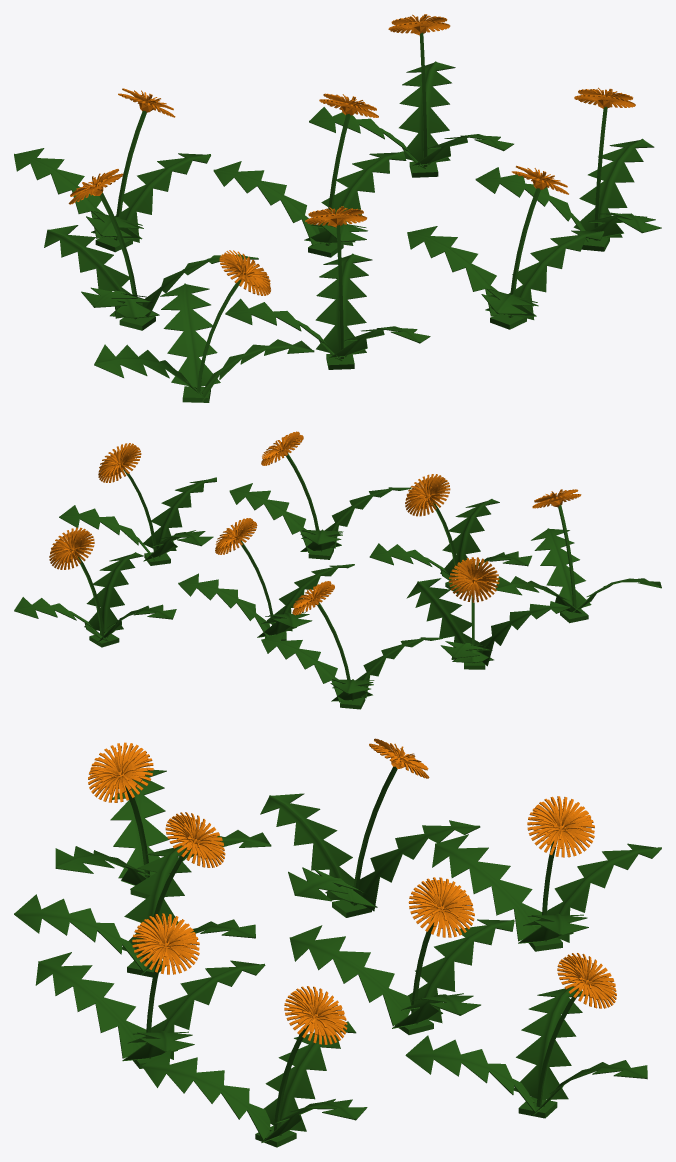
File: 민들레.fbx
The picture shows the model from 3 angles, top to bottom: view 1: azimuth 30°, elevation 25°; view 2: azimuth 150°, elevation 25°; view 3: azimuth 270°, elevation 25°; orthographic projection. The views are drawn at different scales.
Parts seen in each view (by area): view 1: Object037; view 2: Object037; view 3: Object037.
Boxes of the visible parts, x1,y1,x2,y2 form: Object037: (14,14,661,402); Object037: (14,431,661,709); Object037: (14,738,661,1147).
Size of the model in its own units: 283 by 60.41 by 222.
